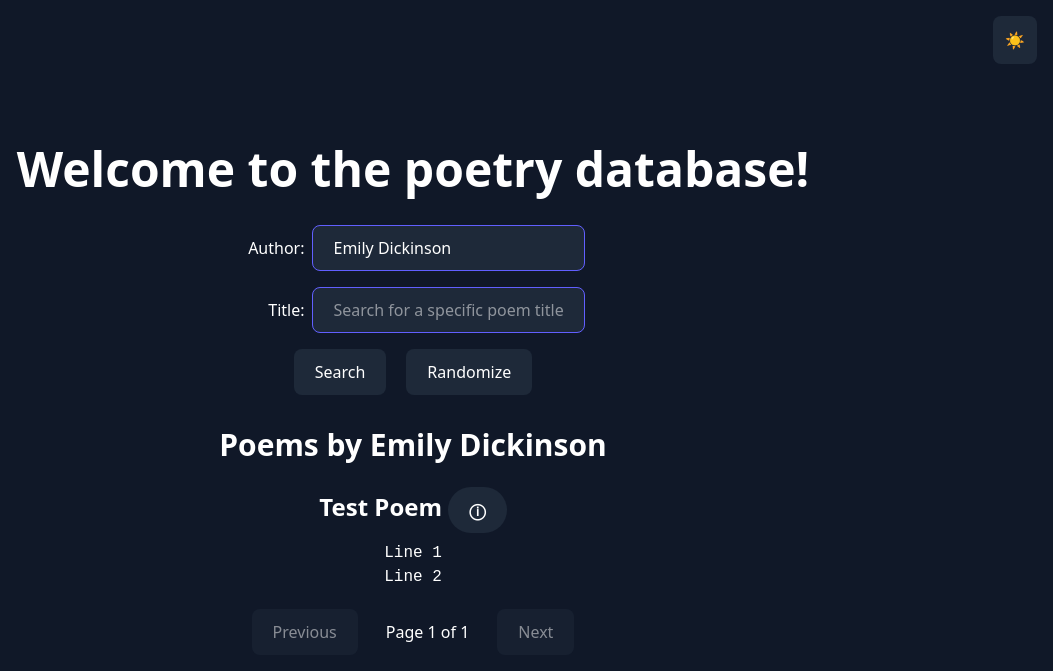
Test case: App › shows poem details when More Details is clicked
Expected: the heading "Test Poem ⓘ" is shown, [319,487,507,533]
Click the button named "more details" at (477, 510), box [448,487,507,533]
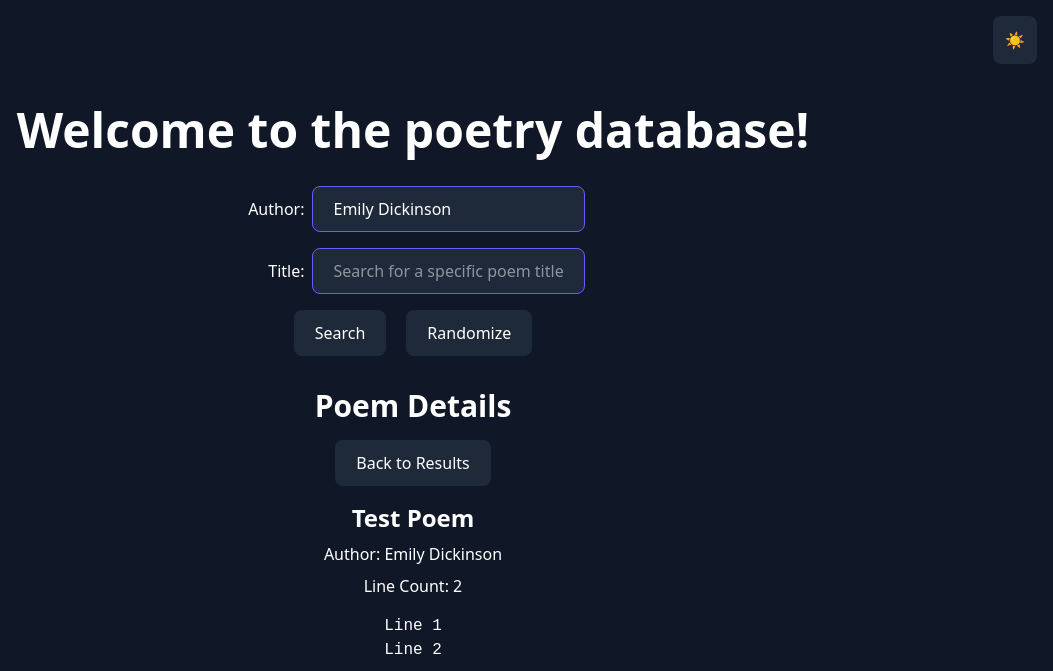
Expected: the heading "Poem Details" is shown, [315,385,511,426]
Expected: the text "Line Count: 2" is shown, [364,575,462,597]
